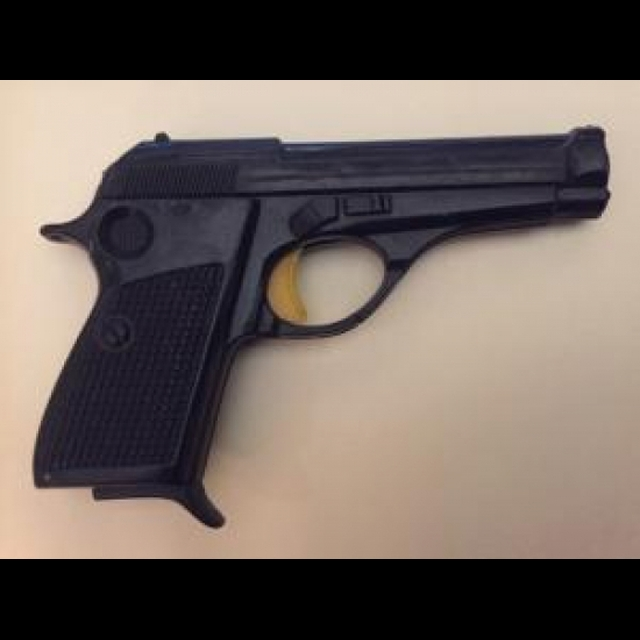SILAH: (41, 125, 612, 534)
